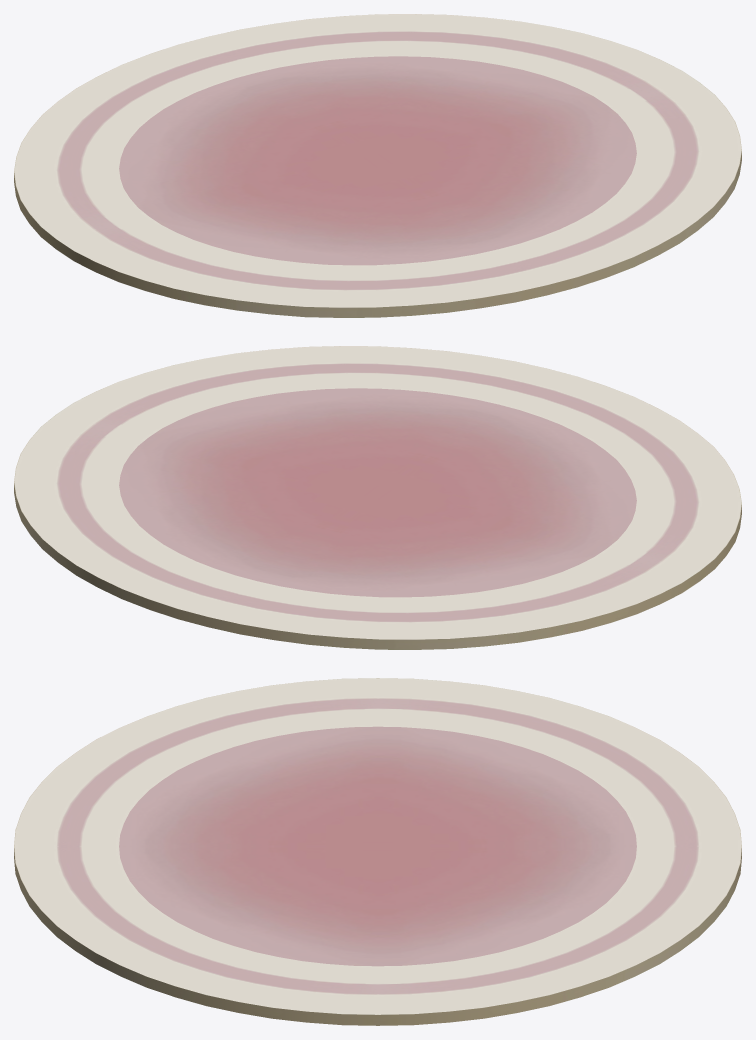
The model's file is 新字教学-第4课场景-汉字鼠-盘子.FBX.
The picture shows the model from 3 angles, top to bottom: view 1: azimuth 30°, elevation 25°; view 2: azimuth 150°, elevation 25°; view 3: azimuth 270°, elevation 25°; orthographic projection. The views are drawn at different scales.
Visible parts, largest first — view 1: 新字教学-第4课场景-汉字鼠-盘子; view 2: 新字教学-第4课场景-汉字鼠-盘子; view 3: 新字教学-第4课场景-汉字鼠-盘子.
Part boxes in pixels (x1,y1,x2,y2): 新字教学-第4课场景-汉字鼠-盘子: (14, 14, 741, 317); 新字教学-第4课场景-汉字鼠-盘子: (14, 346, 741, 649); 新字教学-第4课场景-汉字鼠-盘子: (14, 678, 741, 1025).
Size of the model in its own units: 493 by 7.5 by 451.
Materials: 1 (1 with a texture image).
